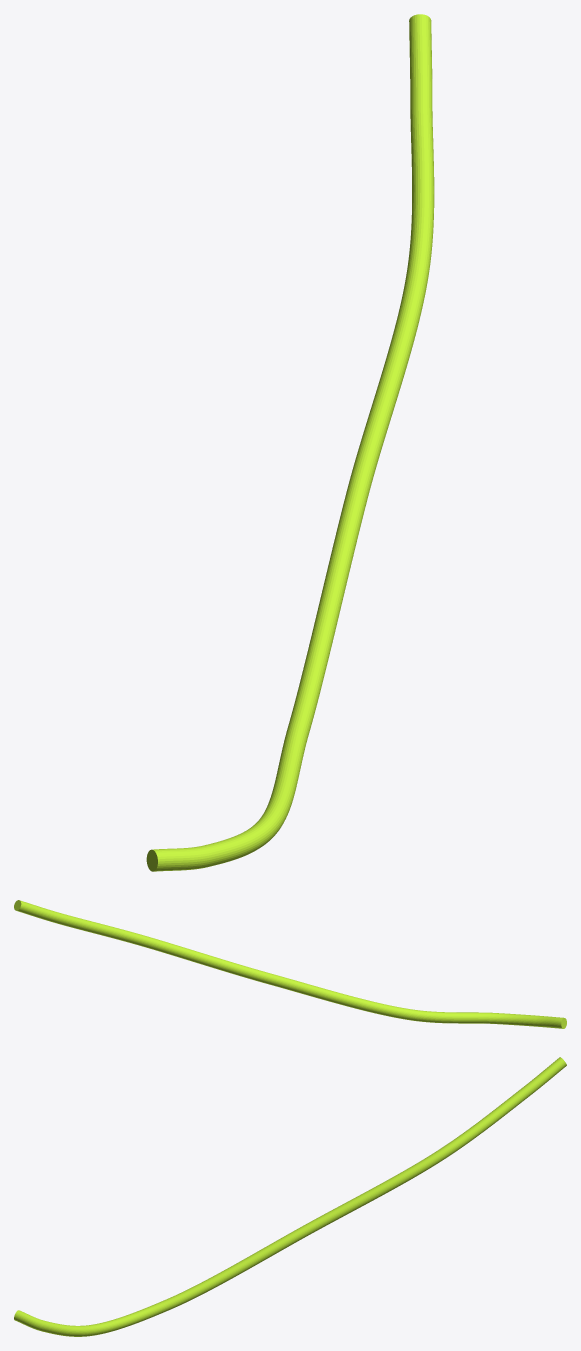
File: faces12 - linechin.glb
The picture shows the model from 3 angles, top to bottom: view 1: azimuth 30°, elevation 25°; view 2: azimuth 150°, elevation 25°; view 3: azimuth 330°, elevation 25°; orthographic projection. The views are drawn at different scales.
Visible parts, largest first — view 1: Tube; view 2: Tube; view 3: Tube.
Boxes of the visible parts, x1,y1,x2,y2 form: Tube: (146, 14, 434, 871); Tube: (14, 900, 566, 1028); Tube: (14, 1057, 566, 1336).
Bounding box in the file's own units: 0.3965 × 0.2208 × 0.42.
